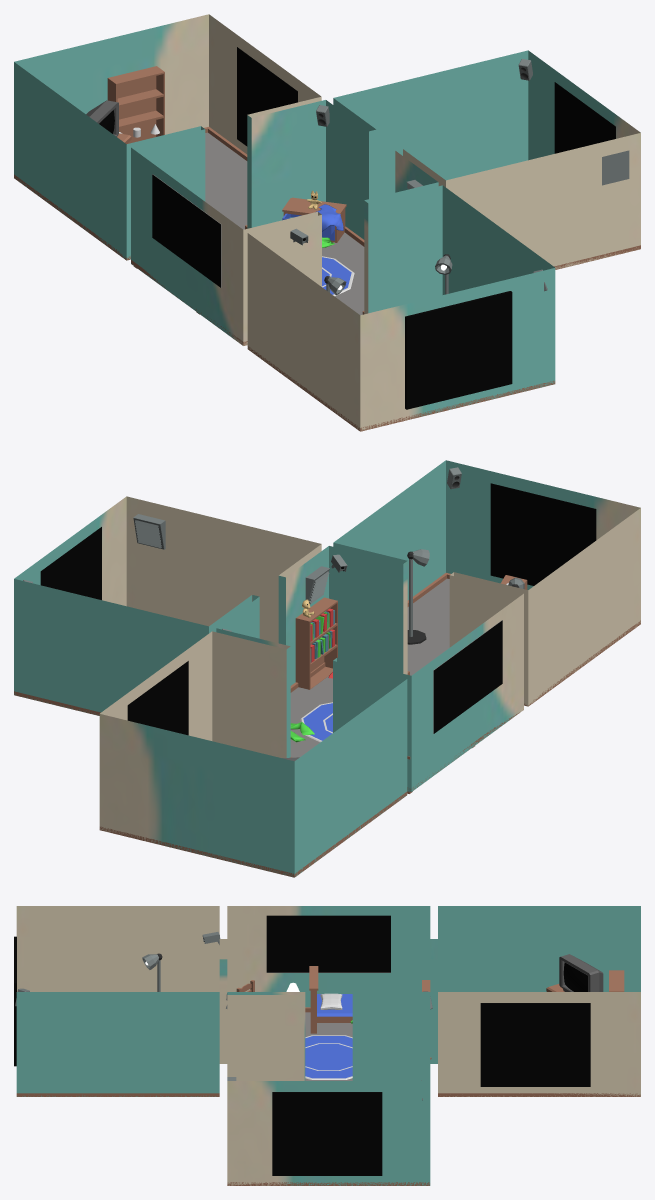
Rendered from Room.fbx.
The picture shows the model from 3 angles, top to bottom: view 1: azimuth 30°, elevation 25°; view 2: azimuth 150°, elevation 25°; view 3: azimuth 270°, elevation 25°; orthographic projection. The views are drawn at different scales.
Visible parts, largest first — view 1: Room1.002, Room1.001, Room1.003, Hub, Cube.009, Cube.001, Cube.011, Cube.010, Drawer, Cube.012, MemoryTv, Rug; view 2: Room1.003, Room1.001, Room1.002, Hub, Cube.009, Cube.004, Cube.011, Cube.010, Cube.012, Rug, LampRed, Cube.013; view 3: Room1.002, Room1.003, Room1.001, Hub, Cube.010, Cube.011, Rug, Bed, MemoryTv.
Part boxes in pixels (x1,y1,x2,y2): Room1.002: (247,185,555,431); Room1.001: (333,50,640,269); Room1.003: (14,14,321,260); Hub: (131,100,438,345); Cube.009: (405,291,512,409); Cube.001: (107,66,164,143); Cube.011: (237,47,297,146); Cube.010: (554,82,615,153); Drawer: (282,197,346,242); Cube.012: (602,150,629,185); MemoryTv: (86,100,118,136); Rug: (322,256,354,296); Room1.003: (99,631,407,877); Room1.001: (14,496,321,715); Room1.002: (333,460,640,706); Hub: (216,546,523,791); Cube.009: (490,483,596,585); Cube.004: (295,597,337,689); Cube.011: (127,661,188,735); Cube.010: (40,527,101,599); Cube.012: (133,514,165,549); Rug: (300,702,332,742); LampRed: (407,549,429,644); Cube.013: (305,566,329,604); Room1.002: (16,906,219,1096); Room1.003: (438,906,640,1096); Room1.001: (227,995,430,1185); Hub: (219,906,437,1080); Cube.010: (272,1092,382,1175); Cube.011: (480,1003,590,1086); Rug: (305,1035,352,1079); Bed: (309,966,430,1033); MemoryTv: (559,954,603,991).
Bounding box in the file's own units: 1632 × 468 × 2455.
